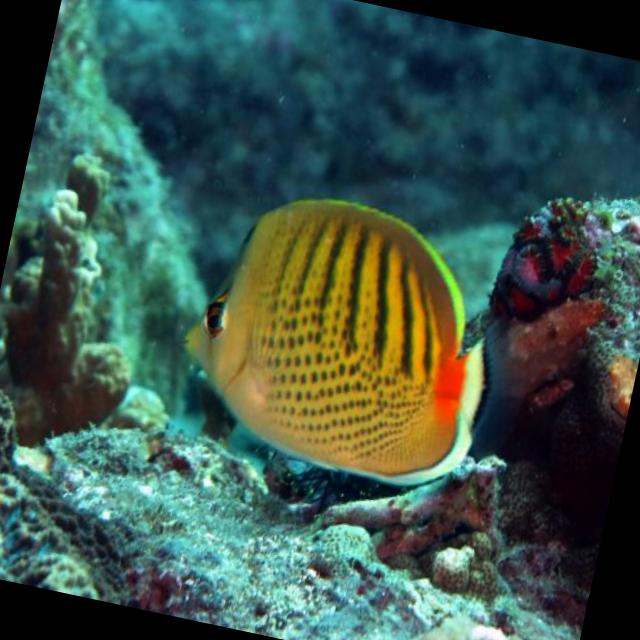ButterflyFish: (160, 170, 525, 502)
